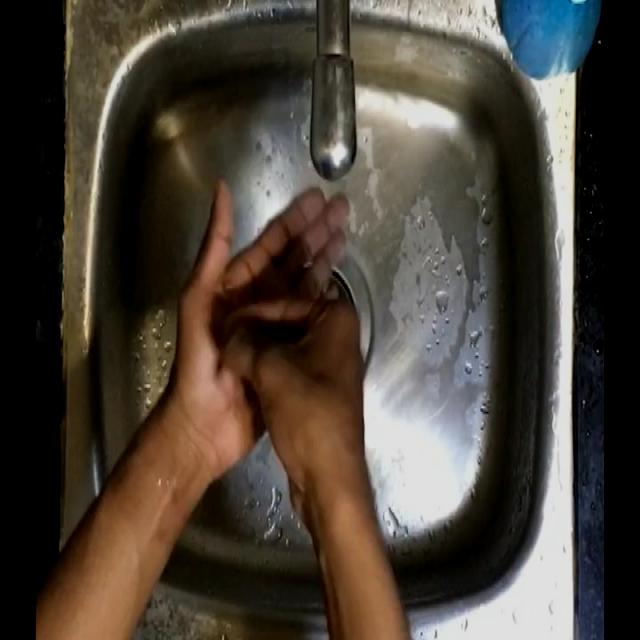step_6: (168, 173, 371, 489)
